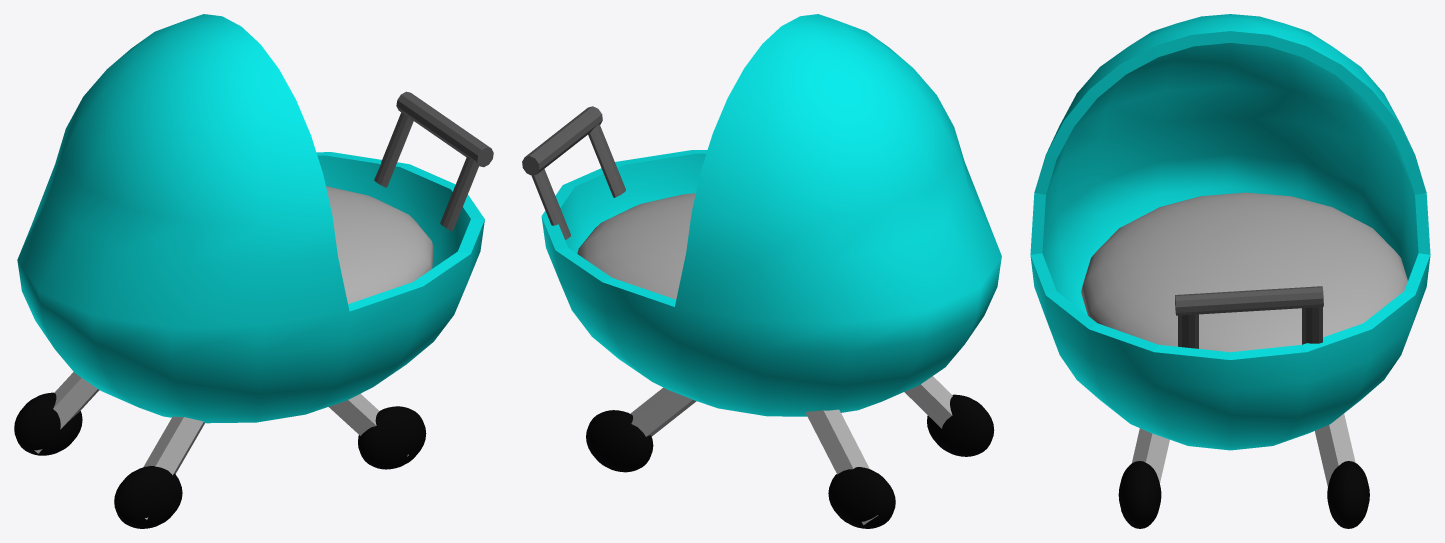
Rendered from BabyStroller2.fbx.
The picture shows the model from 3 angles, left to right: view 1: azimuth 30°, elevation 25°; view 2: azimuth 150°, elevation 25°; view 3: azimuth 270°, elevation 25°; orthographic projection. The views are drawn at different scales.
Parts seen in each view (by area): view 1: pSphere19; view 2: pSphere19; view 3: pSphere19.
Boxes of the visible parts, <box> form: pSphere19: <box>14,14,493,528</box>; pSphere19: <box>522,14,1001,528</box>; pSphere19: <box>1030,14,1430,528</box>.
Size of the model in its own units: 6.54 by 6.34 by 5.21.
